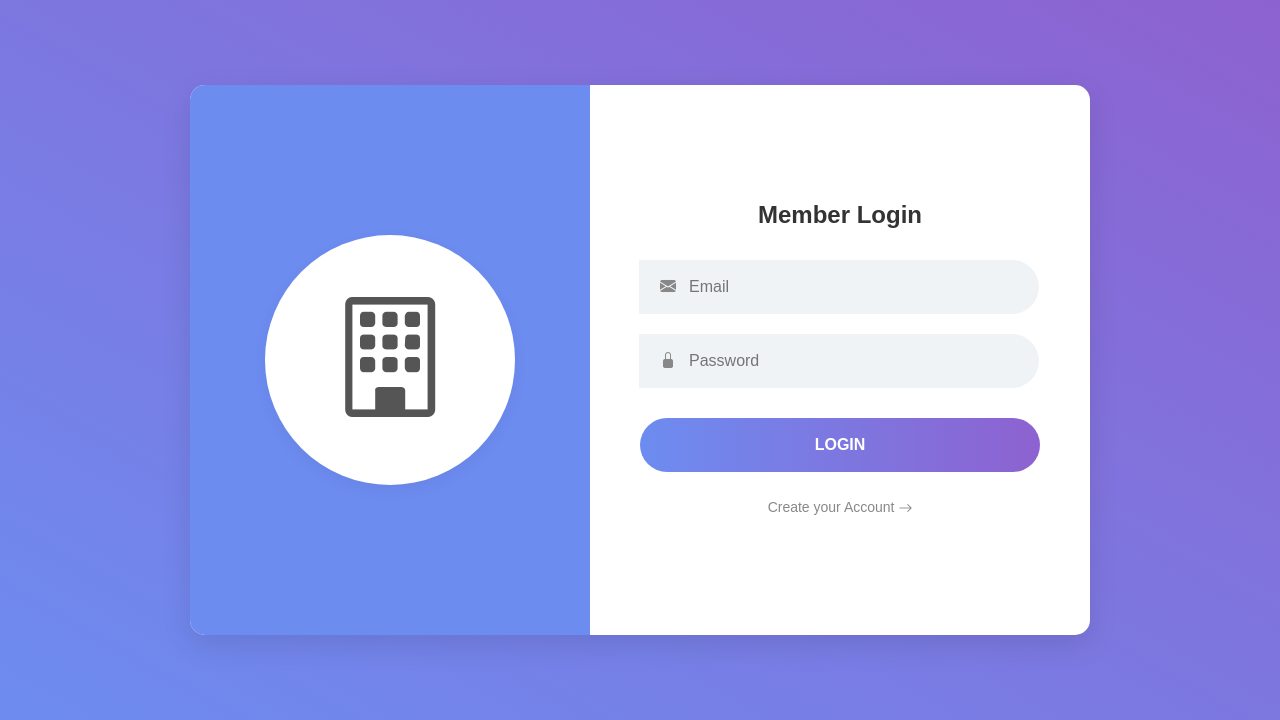
it: Tính năng Người dùng - E2E Test › Đăng nhập hệ thống › Hiển thị lỗi khi đăng nhập thất bại
The image size is (1280, 720).
In the field with placeholder "Email": point(839, 287) [639, 260, 1039, 314], type "wrong@example.com"
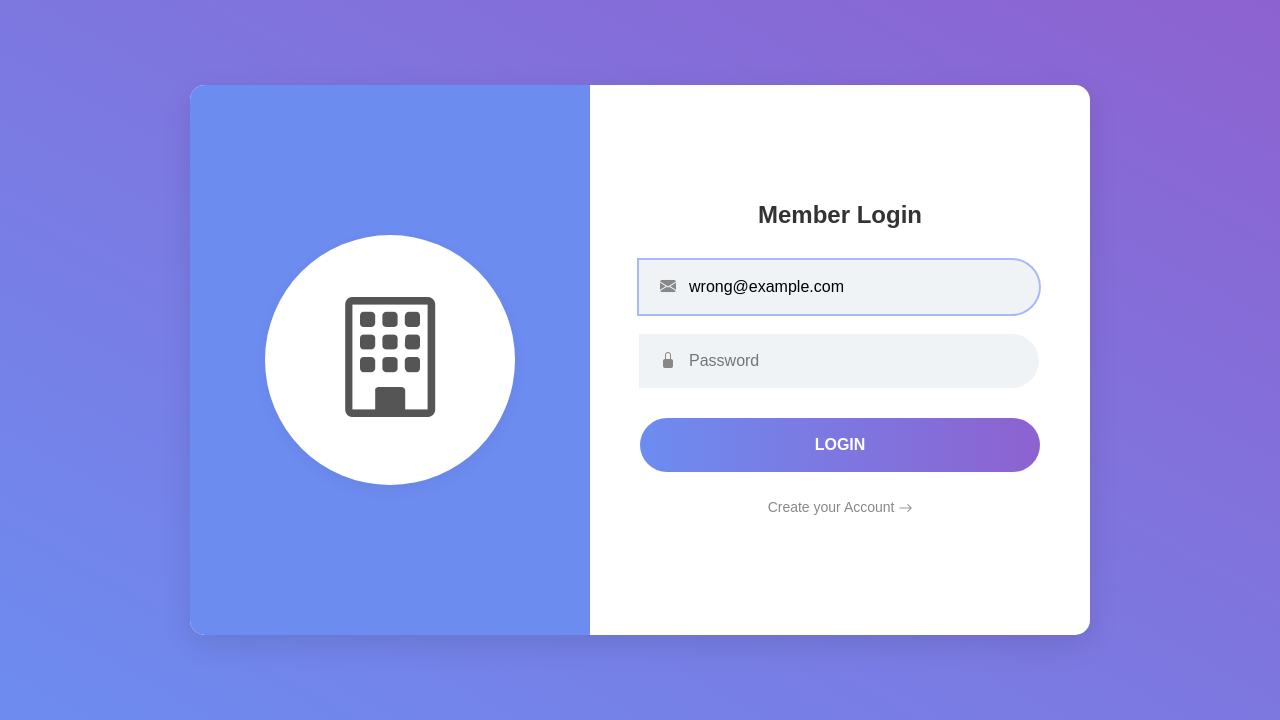
In the password field with placeholder "Password": point(839, 361) [639, 334, 1039, 388], type "wrongpassword"
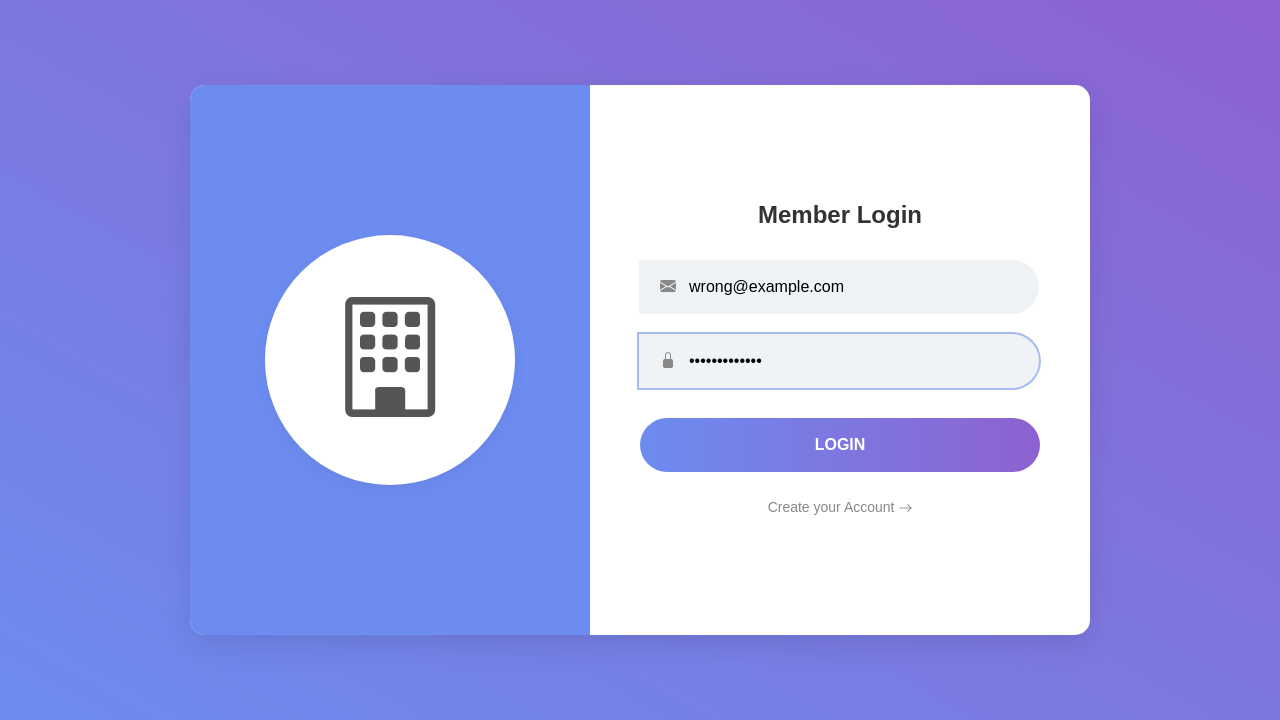
Click the button "LOGIN": point(840, 445) [640, 418, 1040, 472]
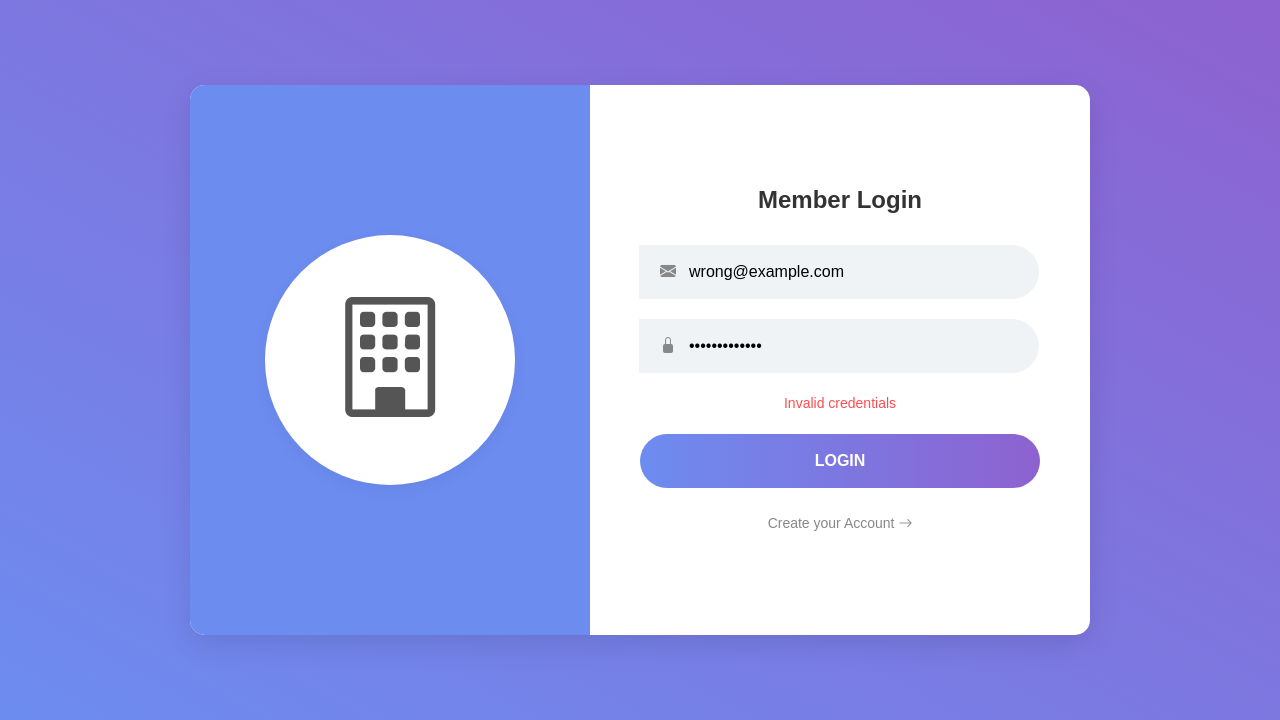
Now the text "Invalid credentials" is shown, box [784, 394, 896, 410]
